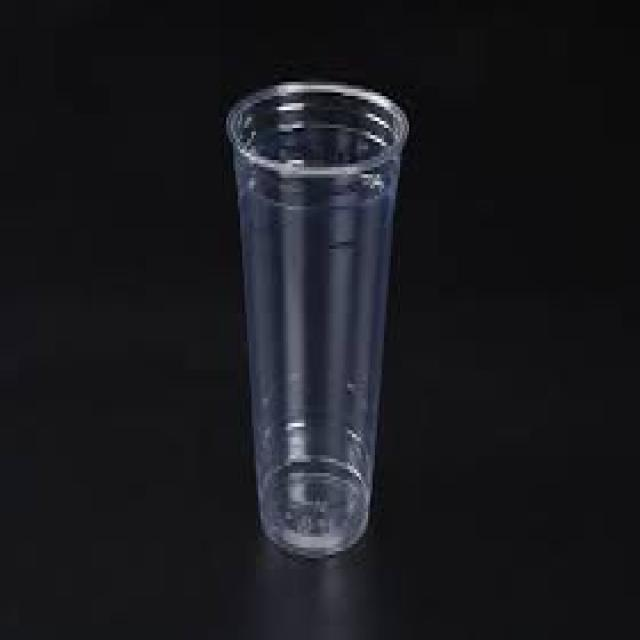plastic: (226, 84, 409, 555)
